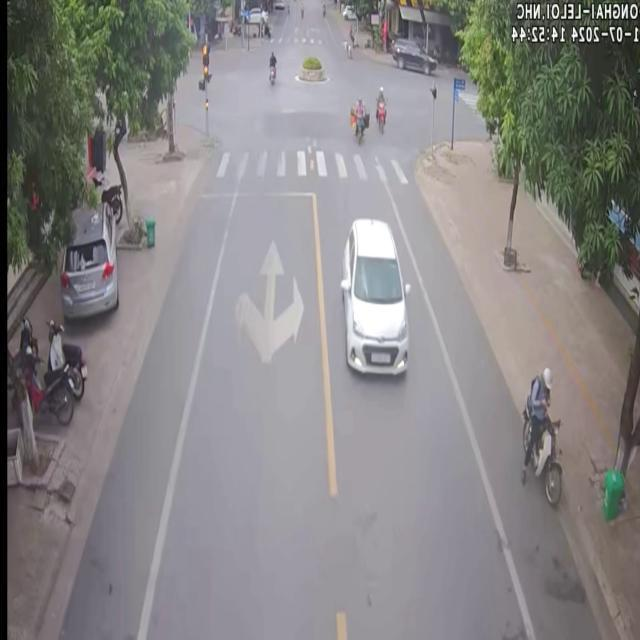car: (339, 218, 408, 374), (59, 200, 117, 316)
motobike: (519, 365, 560, 502), (13, 345, 72, 422), (46, 318, 86, 398), (348, 96, 368, 142), (374, 85, 384, 130), (267, 49, 274, 82)
stop_line: (189, 187, 313, 195)
yellow_light: (199, 43, 210, 81)
